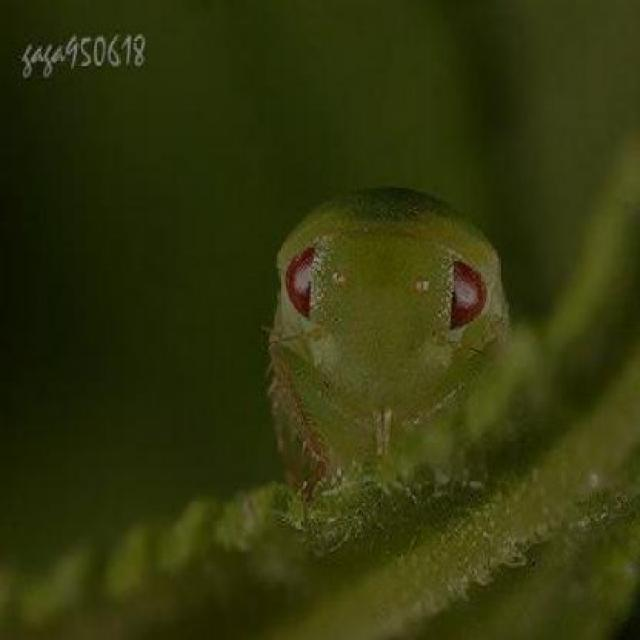green-leafhopper: (263, 191, 508, 469)
